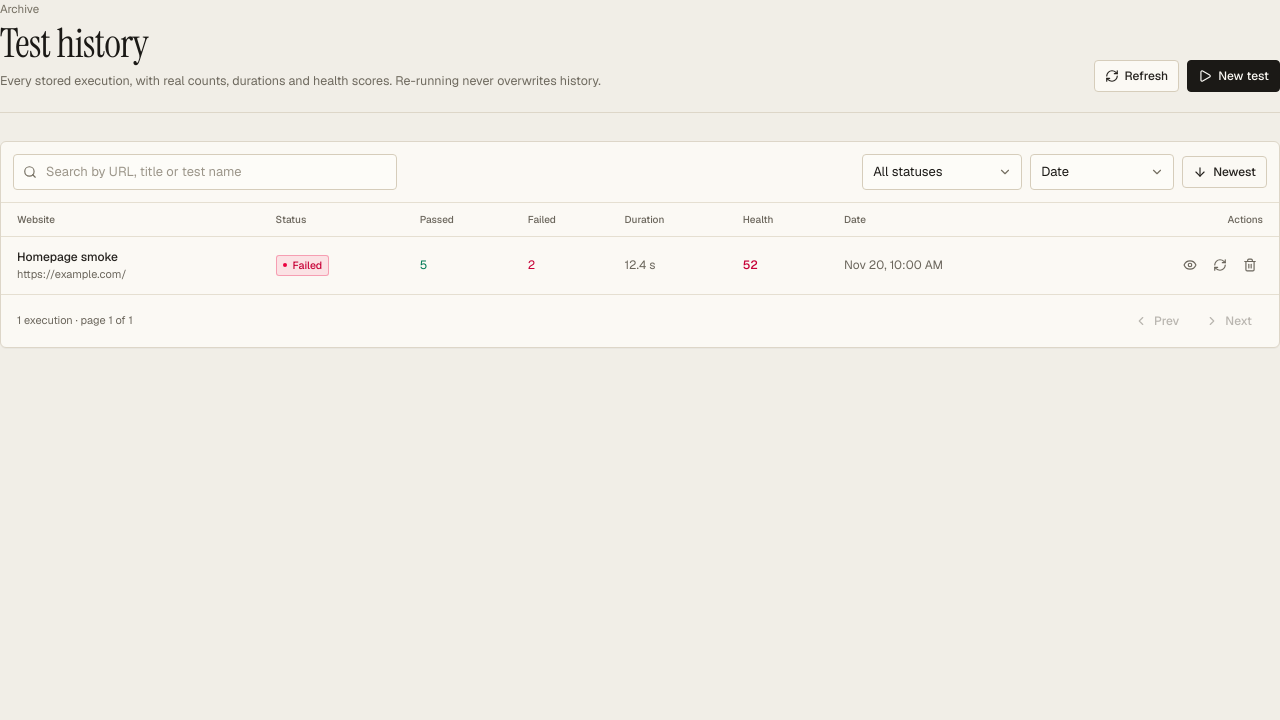
Test: Test history › asks for confirmation before deleting
The width and height of the screenshot is (1280, 720).
Later steps or results of the test are not shown.
Expected: the link "Homepage smoke" is shown, [17,249,118,265]
Click the button named "delete https://example.com/".
click(1250, 265)  # box [1237,252,1263,278]
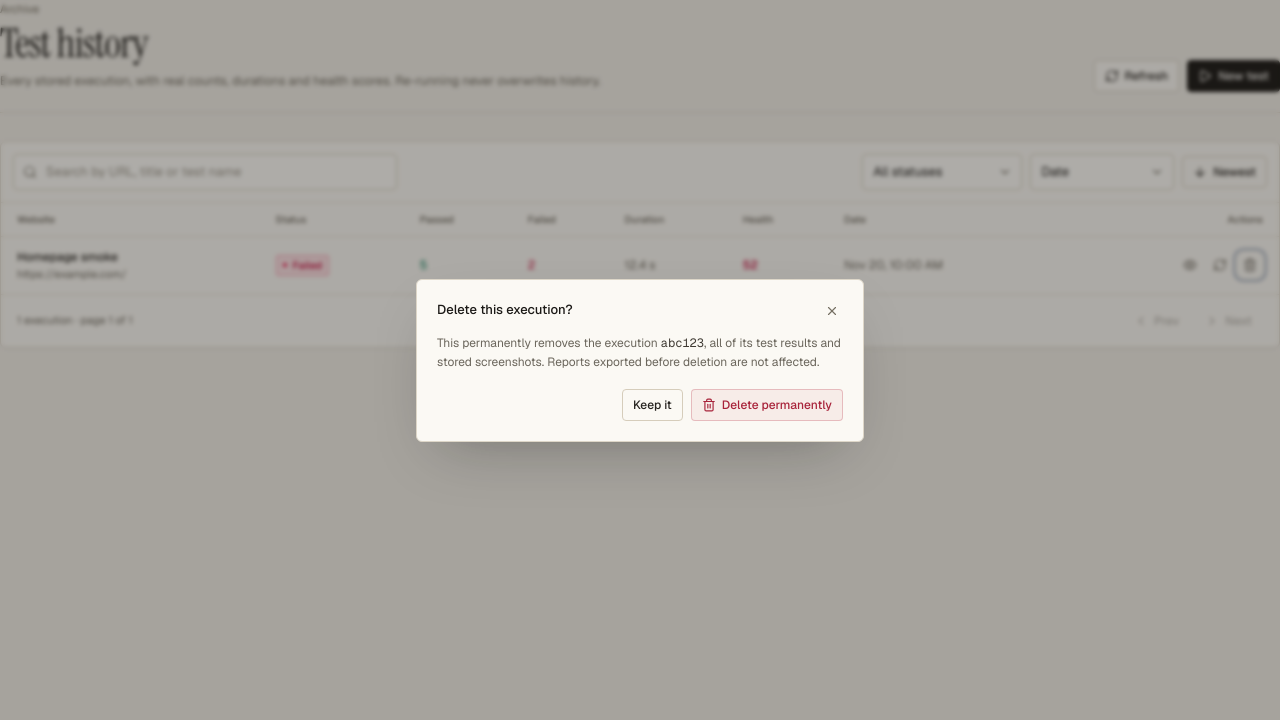
Expected: the heading "Delete this execution?" is shown, [437,300,573,319]
